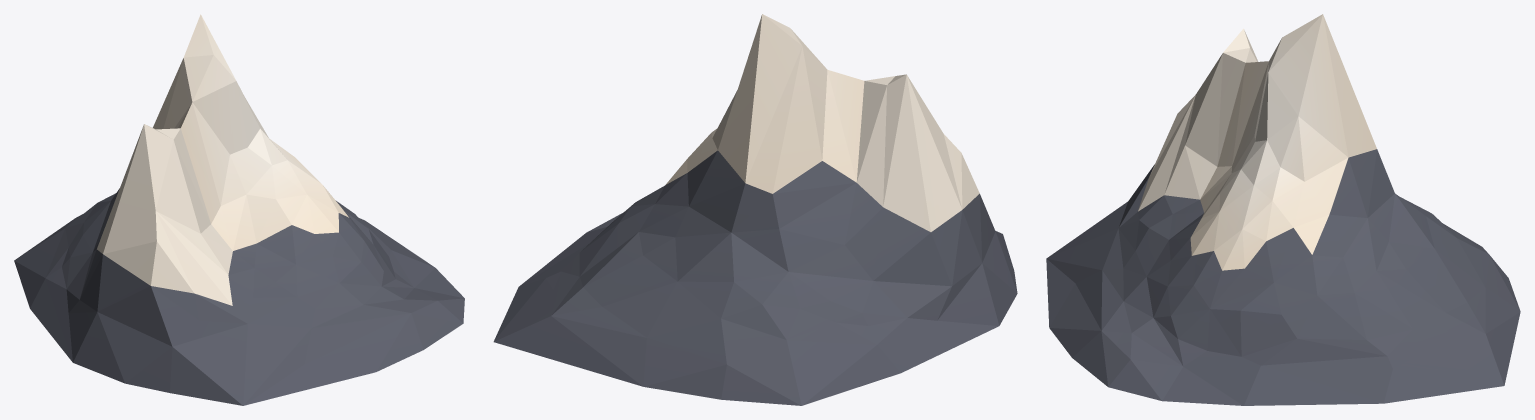
The model's file is Mountain2.fbx.
The picture shows the model from 3 angles, left to right: view 1: azimuth 30°, elevation 25°; view 2: azimuth 150°, elevation 25°; view 3: azimuth 270°, elevation 25°; orthographic projection. The views are drawn at different scales.
Parts seen in each view (by area): view 1: Mountain2; view 2: Mountain2; view 3: Mountain2.
Boxes of the visible parts, left/top/right/bottom form: Mountain2: left=14, top=14, right=464, bottom=405; Mountain2: left=493, top=14, right=1017, bottom=405; Mountain2: left=1046, top=14, right=1520, bottom=405.
Bounding box in the file's own units: 2557 × 1817 × 2691.
